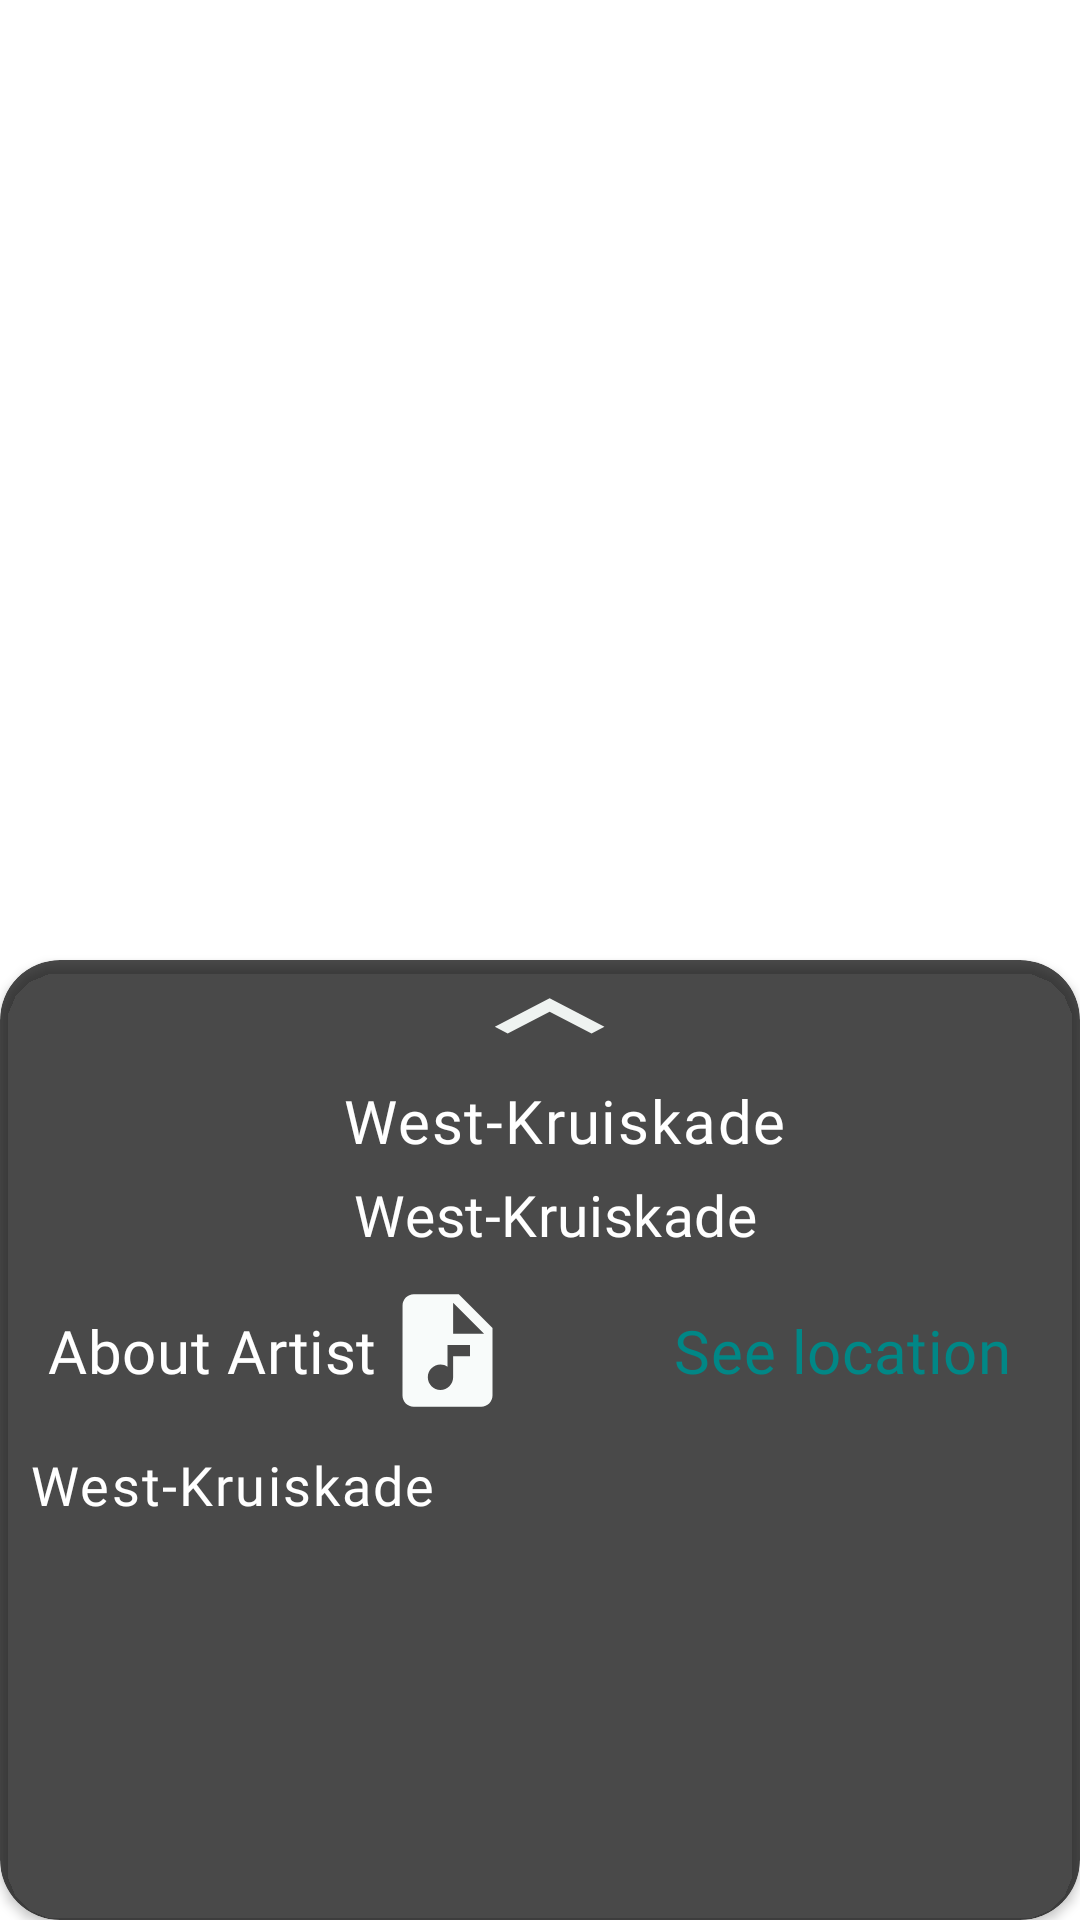

Where to tap for icons on this 1080x1920 app screen, as (x=x, y=y):
expand collapse back ground: (x=549, y=1016)
